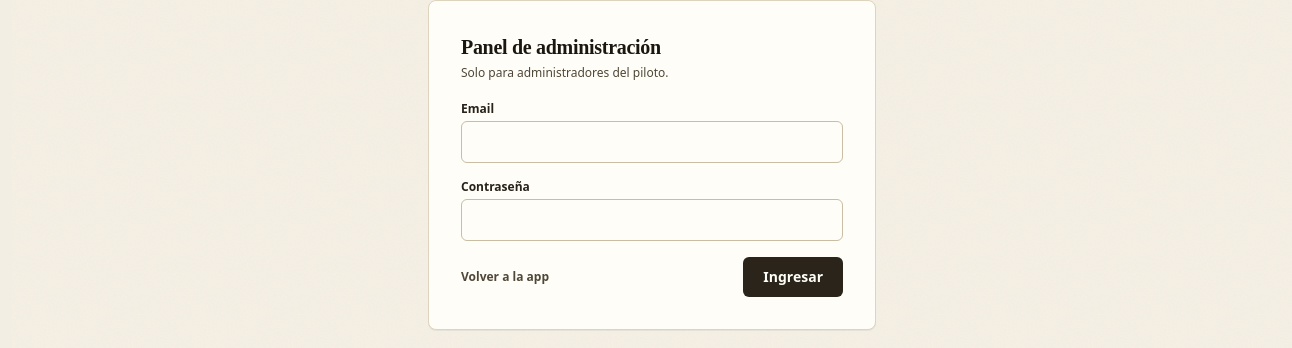
Test: AdminView — acceso › al ingresar limpia la contraseña del estado y carga reportes, feedback y resumen
In the field labelled "Email": coordinates (652, 142) [461, 121, 843, 163], type "admin@ejemplo.com"
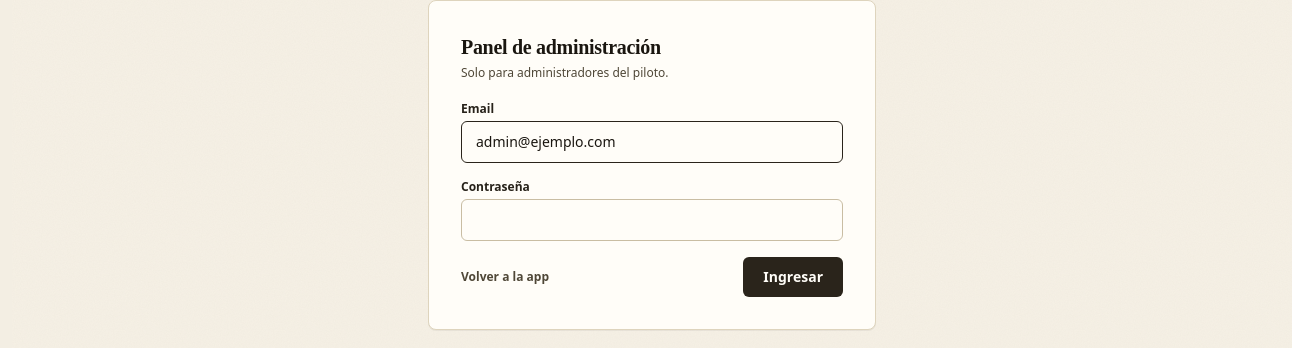
In the password field labelled "Contraseña": coordinates (652, 220) [461, 199, 843, 241], type "secreta"
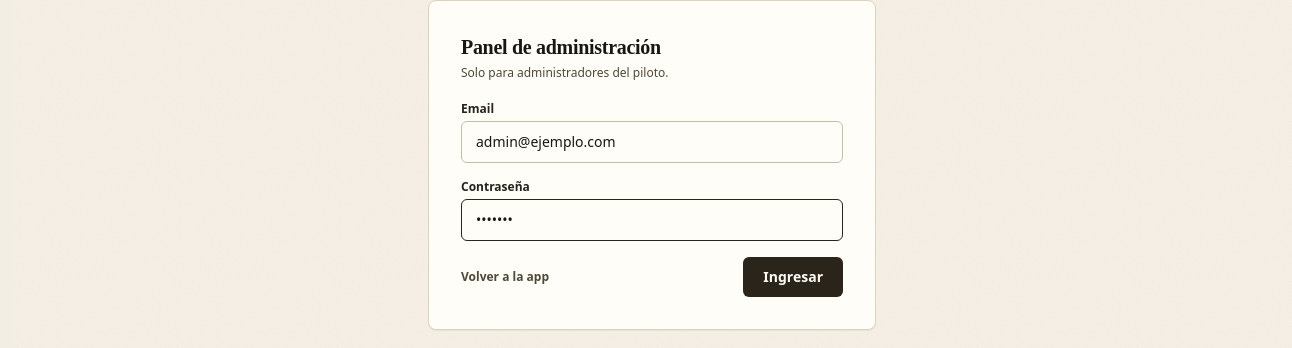
Click the button "Ingresar": coordinates (793, 277) [743, 257, 843, 297]
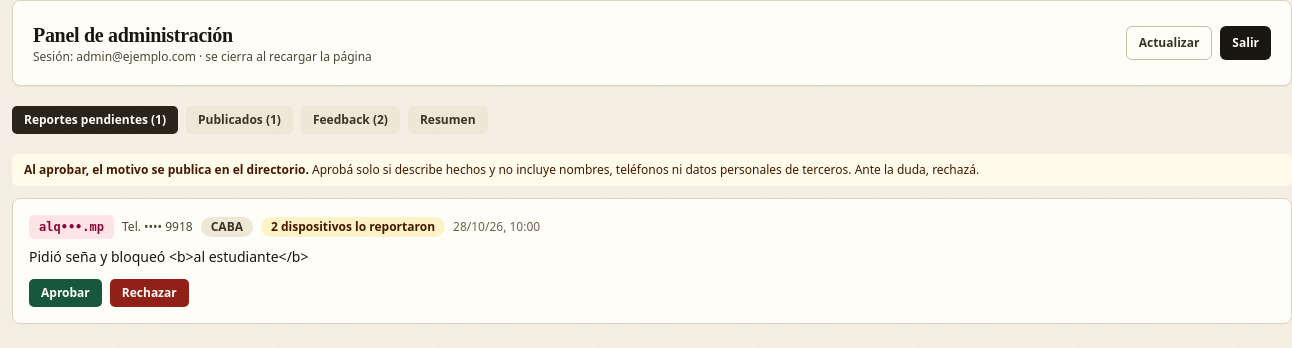
Now the text "Sesión: admin@ejemplo.com · se cierra al recargar la página" is shown, box [33, 49, 372, 65]
